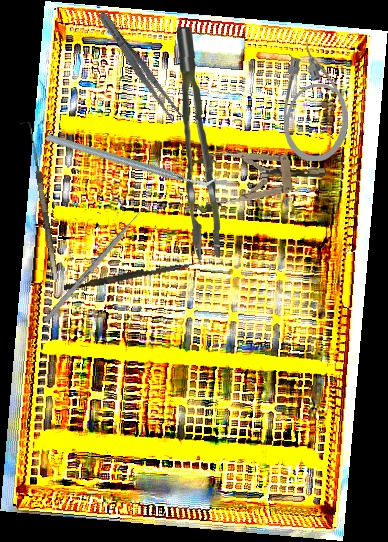Cannula: (282, 38, 350, 162)
Chopper: (43, 76, 220, 243)
Dressing Forceps: (94, 8, 184, 124)
Hook Surgical: (19, 120, 59, 282)
Pusher: (43, 201, 151, 323), (63, 257, 197, 294)
Speculum: (185, 144, 328, 214)
Tissue Forceps: (172, 26, 225, 261)
